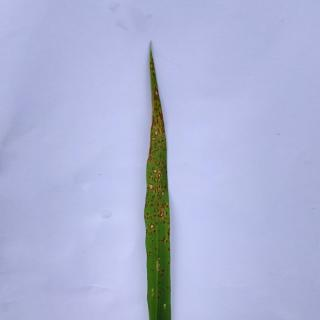Blast: (153, 169, 163, 180), (158, 208, 166, 218), (154, 87, 160, 100), (148, 181, 154, 192), (148, 222, 156, 230), (154, 128, 160, 136)
